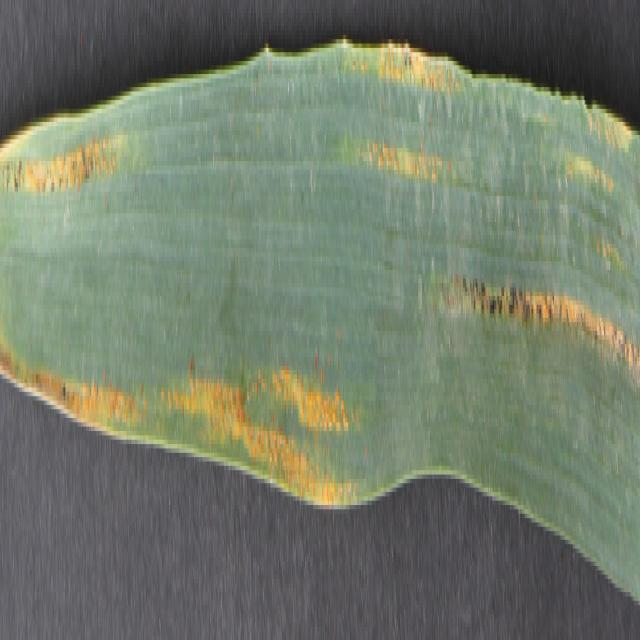leaf rust: (370, 48, 640, 396), (1, 279, 368, 505), (0, 78, 124, 226)
